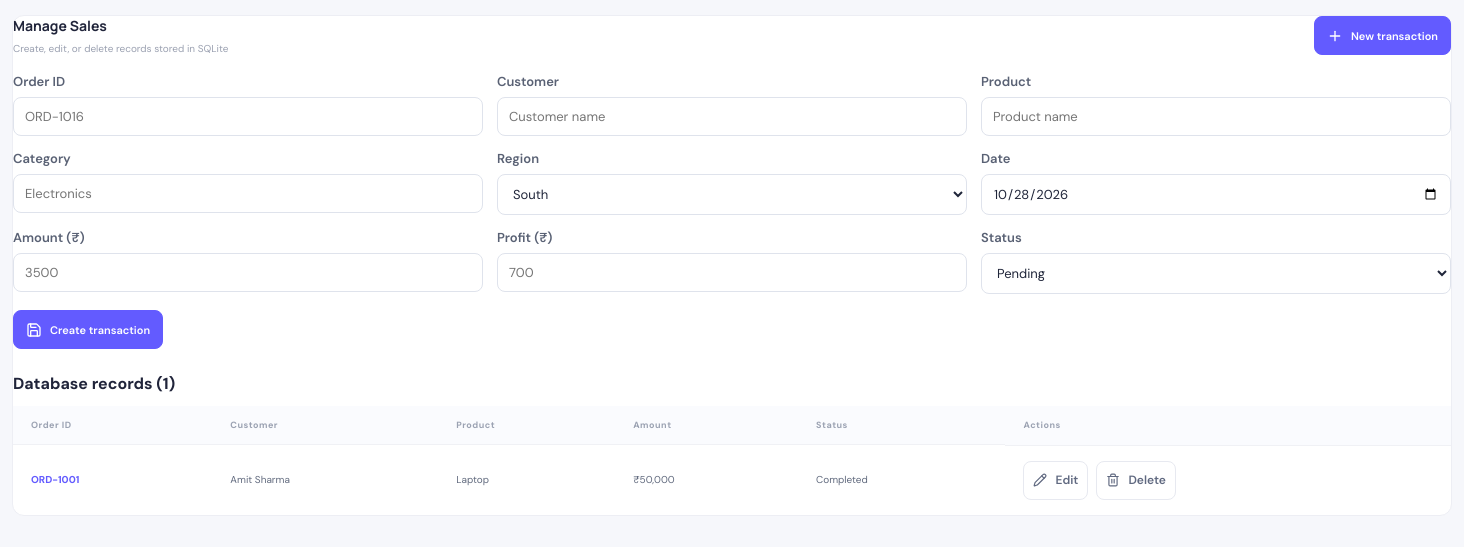
Scenario: SalesManager › shows an API error when deletion fails
The width and height of the screenshot is (1464, 547).
Click the button with aria-label "Delete ORD-1001" at (1136, 480), box [1096,460,1176,500]
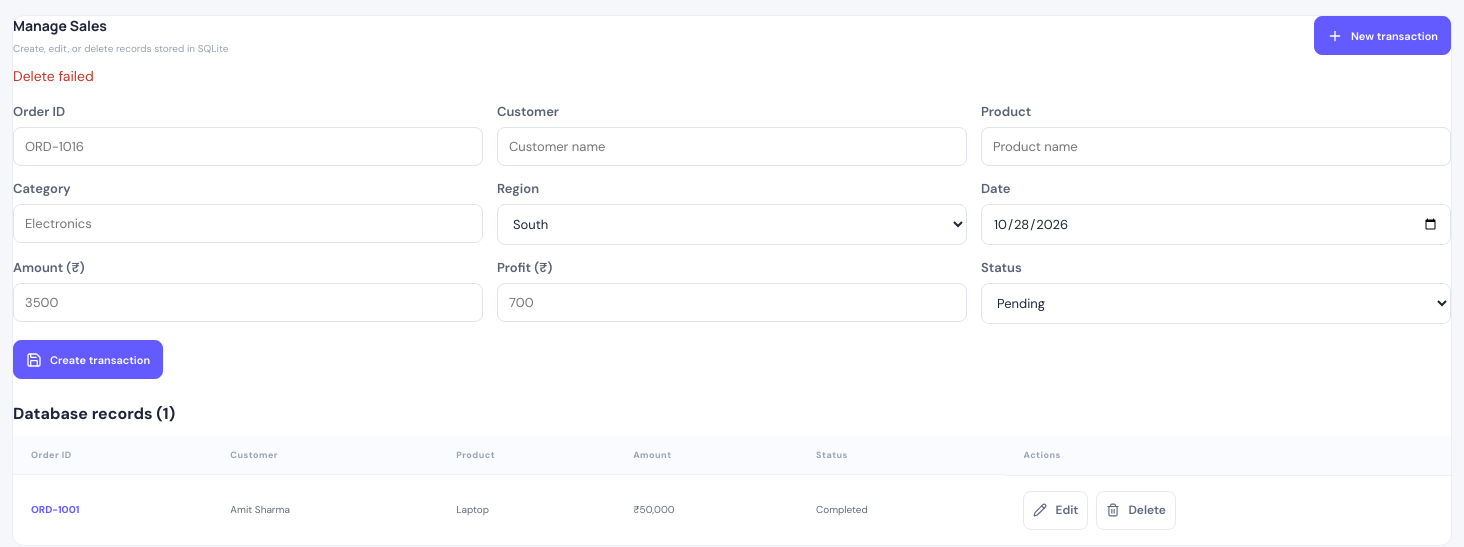
Expected: the message reads "Delete failed", [13,67,94,85]
